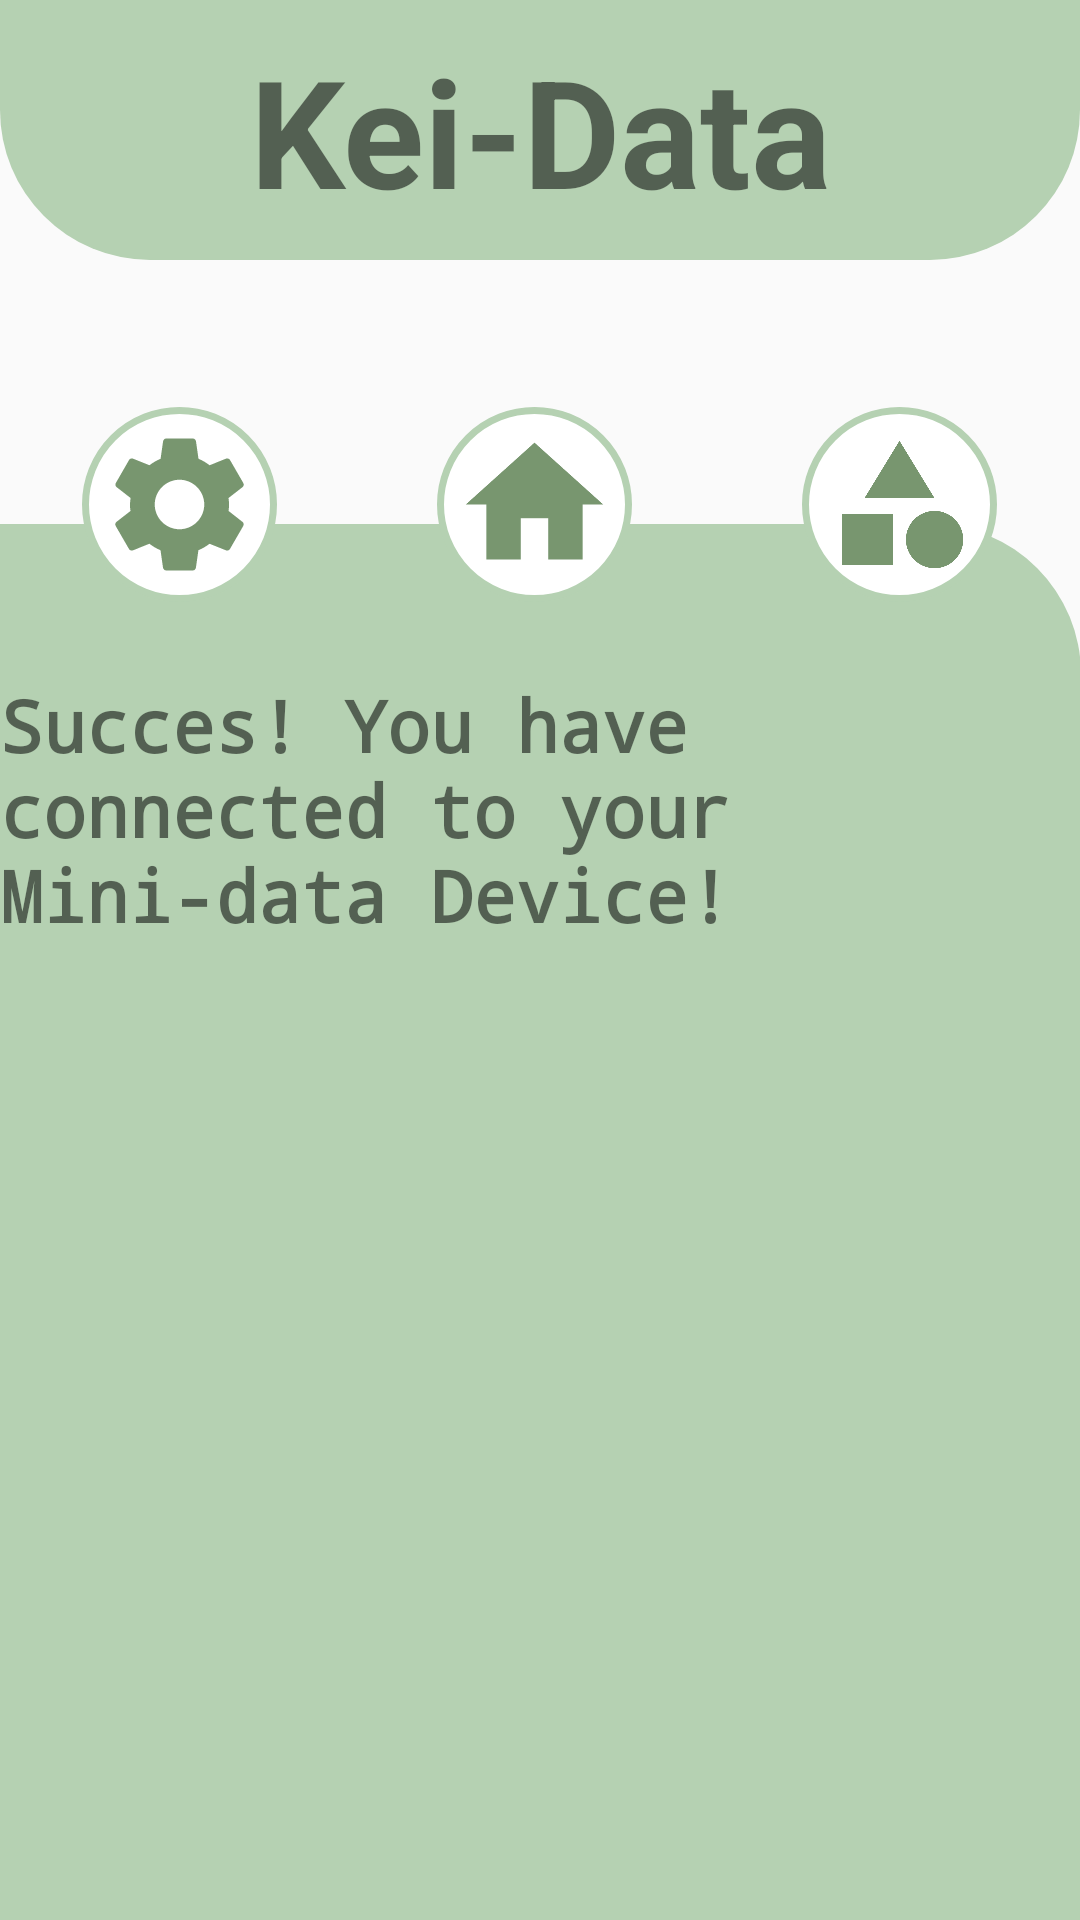

Icon click points for this 1080 × 1920 phone screenshot, format point (x, y):
Home: point (534, 504)
Settings: point (179, 504)
